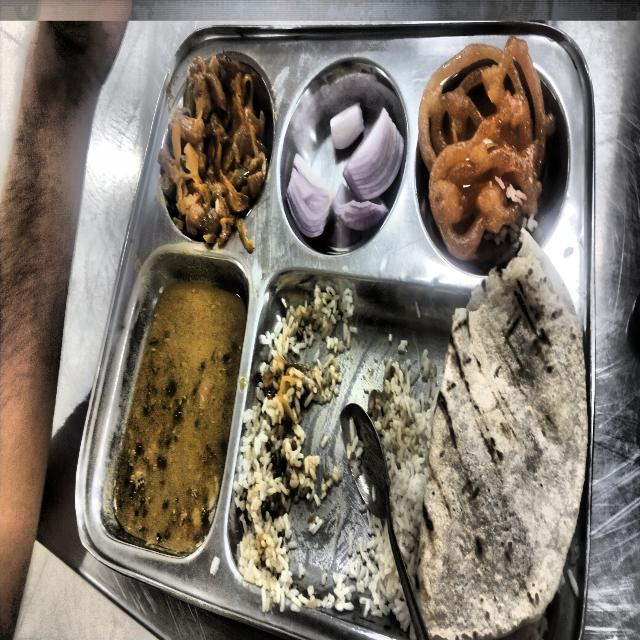Chilli-paneer: (133, 281, 216, 547)
Chutney: (421, 37, 546, 199)
Raita: (448, 306, 560, 543), (306, 405, 406, 617), (473, 304, 527, 512), (301, 321, 355, 406), (271, 292, 336, 357)
Red--chutney: (418, 230, 588, 638)
Salad-Chukundar: (286, 73, 402, 238)
gajar-aloo: (184, 73, 255, 214)
